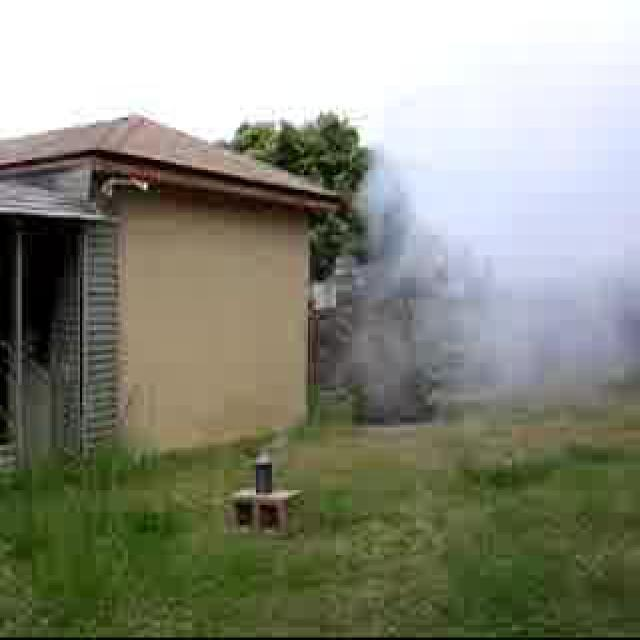Smoke: (391, 132, 628, 377)
